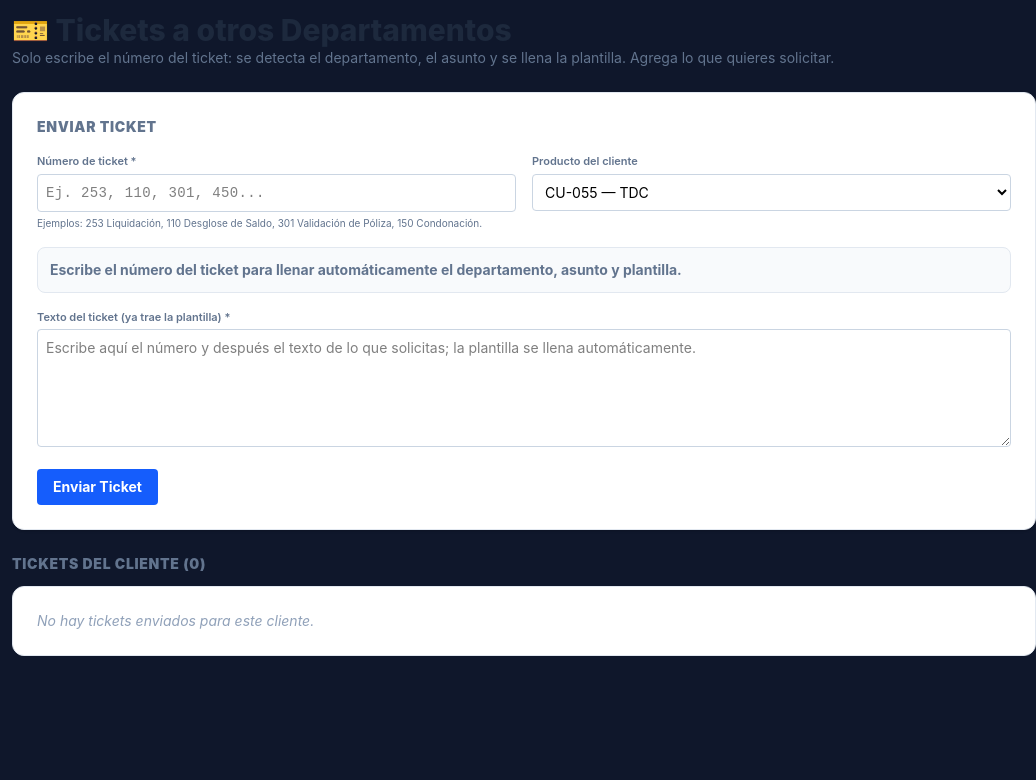
Scenario: TicketsTab: envio › muestra el mensaje del backend cuando responde con texto
This screenshot has width=1036, height=780.
Type "118" into the field with placeholder "Ej. 253, 110, 301, 450..." at [276, 192], box [37,174,516,212]
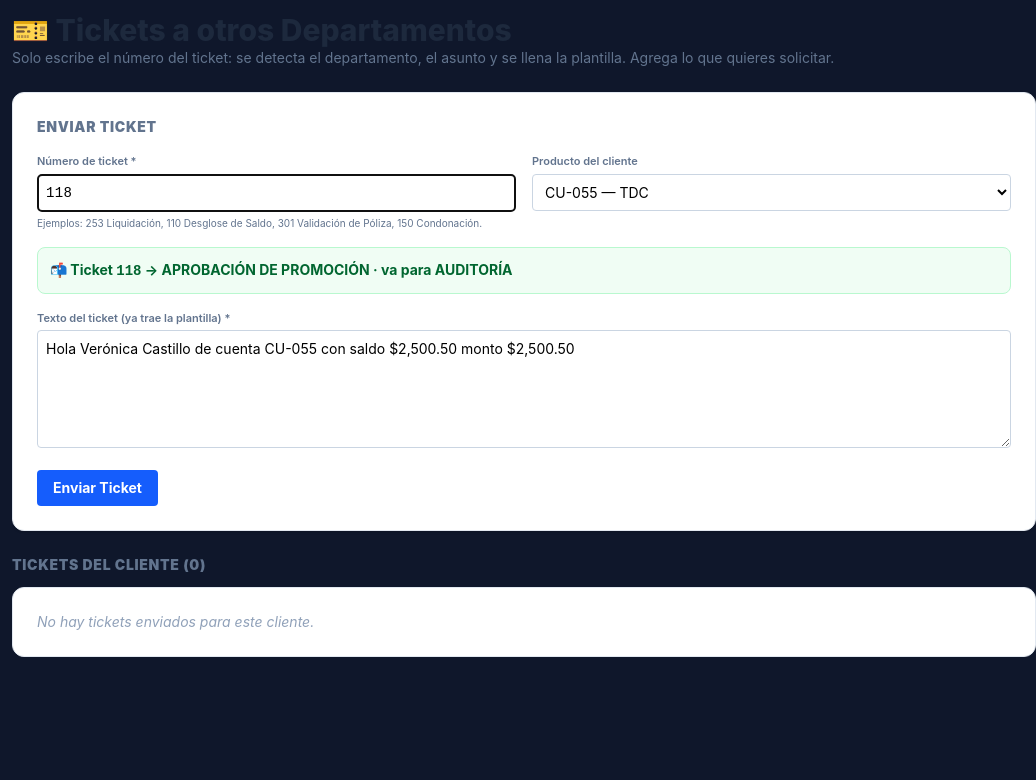
Click the button "Enviar Ticket" at [98, 488], box [37,470,158,506]
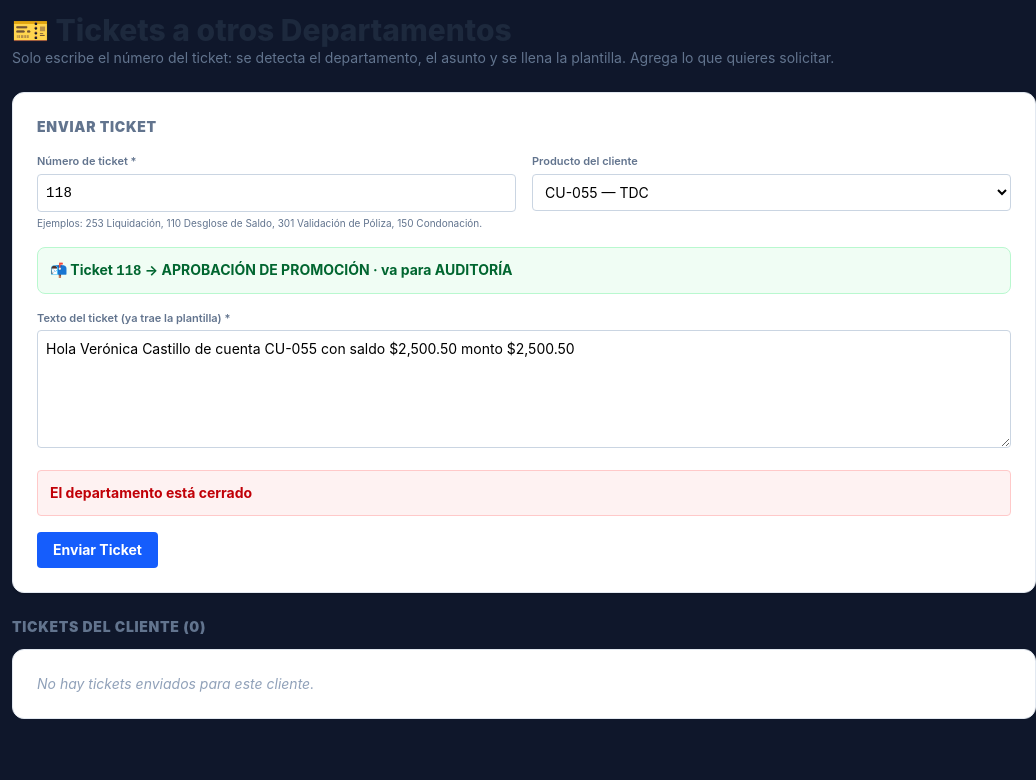
Now the text "El departamento está cerrado" is shown, box [37,470,1011,516]
